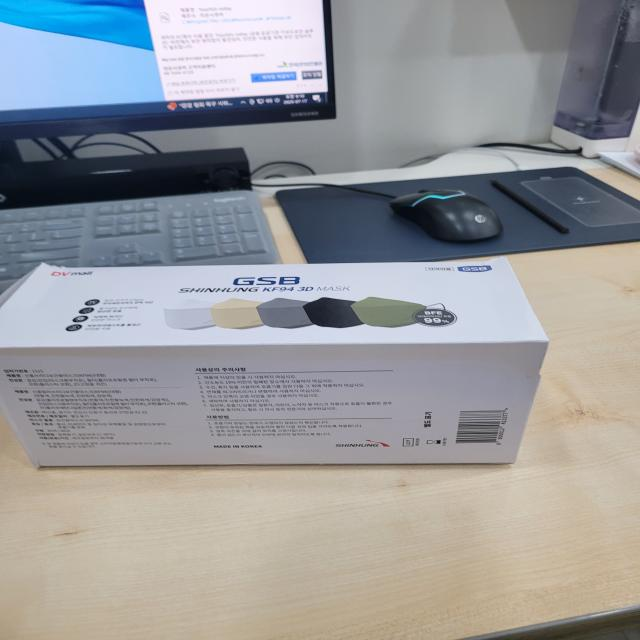mask: (0, 248, 572, 486)
